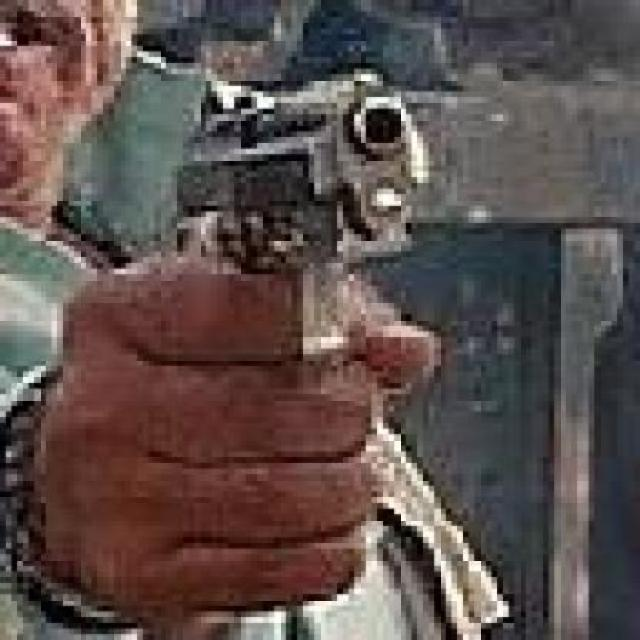rifle: (5, 248, 382, 622), (174, 62, 456, 267), (244, 259, 456, 402)
